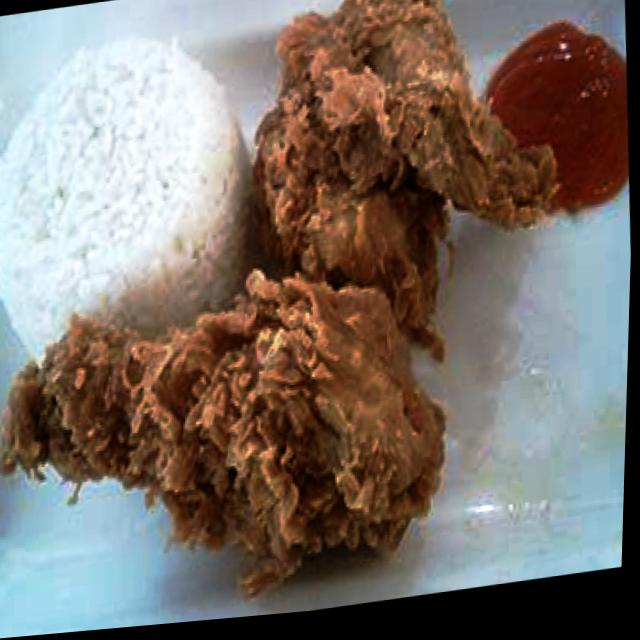fried_chicken: (0, 246, 458, 632), (239, 0, 569, 347), (0, 20, 264, 372)
